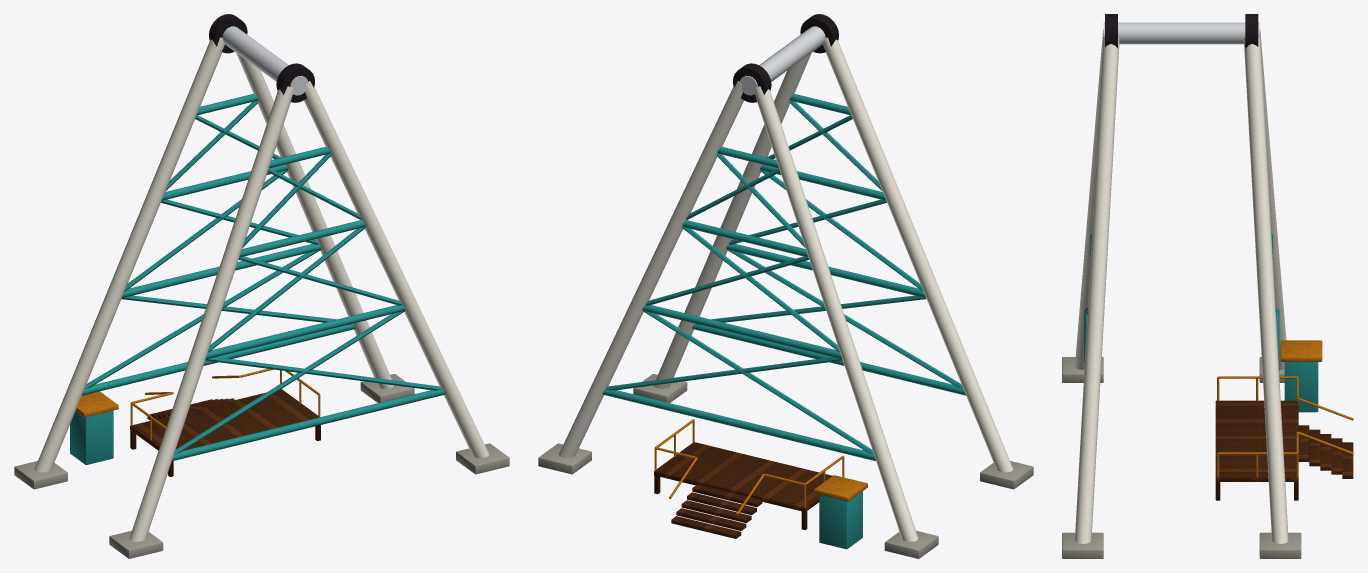
File: ferris-frame.glb
The picture shows the model from 3 angles, left to right: view 1: azimuth 30°, elevation 25°; view 2: azimuth 150°, elevation 25°; view 3: azimuth 270°, elevation 25°; orthographic projection. The views are drawn at different scales.
Parts seen in each view (by area): view 1: ferris-frame; view 2: ferris-frame; view 3: ferris-frame.
Boxes of the visible parts, box(x1,y1,x2,y2) form: ferris-frame: box(14, 14, 509, 558); ferris-frame: box(538, 14, 1033, 558); ferris-frame: box(1062, 14, 1353, 558).
Bounding box in the file's own units: 17.6 × 18.95 × 11.22.
8 materials, 3 textured.
